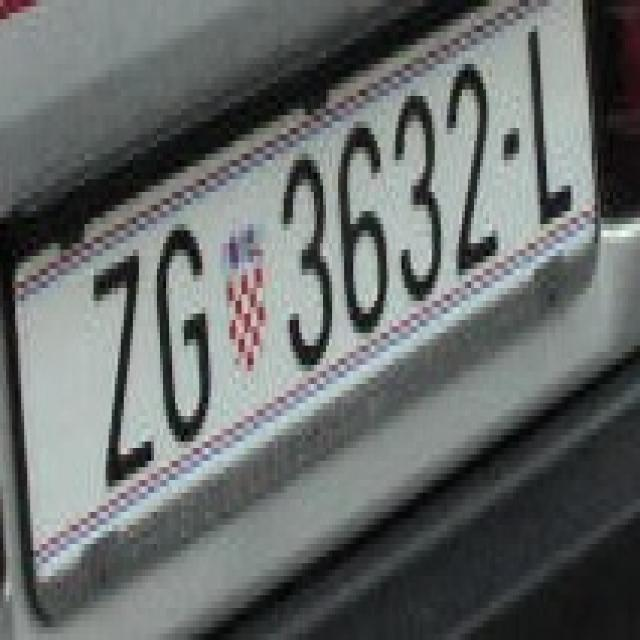2: (444, 58, 501, 268)
3: (392, 83, 441, 294)
6: (335, 115, 393, 339)
G: (151, 224, 220, 461), (287, 147, 332, 371)
L: (522, 19, 583, 237)
Z: (85, 256, 160, 486)
